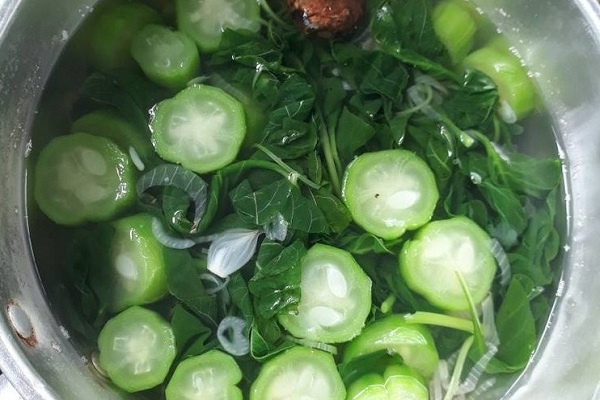Sayur Bayam: (46, 32, 550, 400)
